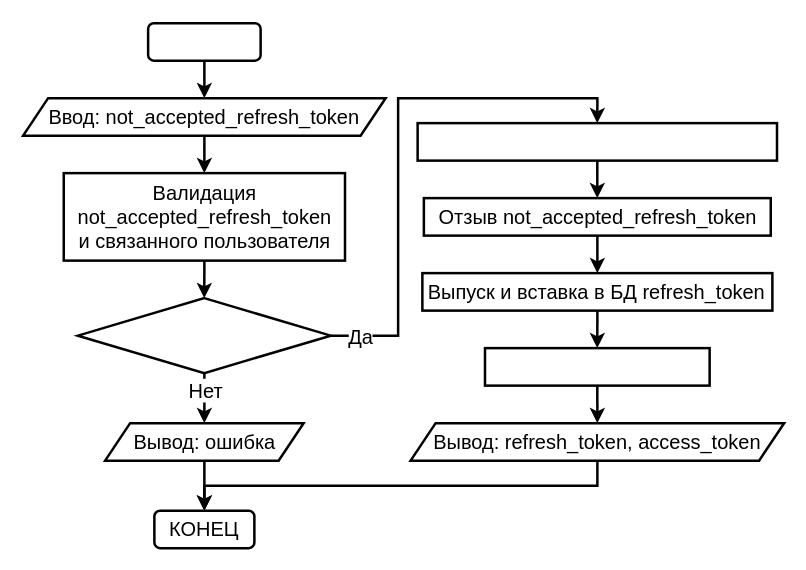
This 806x570 diagram has some shape labels left out. Here are the shapes that lost their labels. From the top down, the centre of each, then its label:
pixel 203 41: НАЧАЛО
pixel 597 141: Активация связанного пользователя
pixel 203 335: Данные валидны
pixel 596 366: Выпуск access_token
